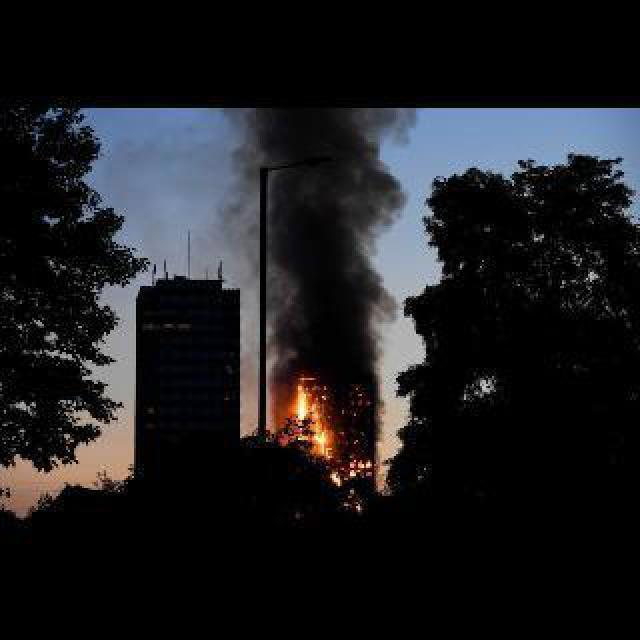Fire: (284, 372, 332, 448), (330, 454, 378, 488)
Smoke: (266, 112, 394, 370)
